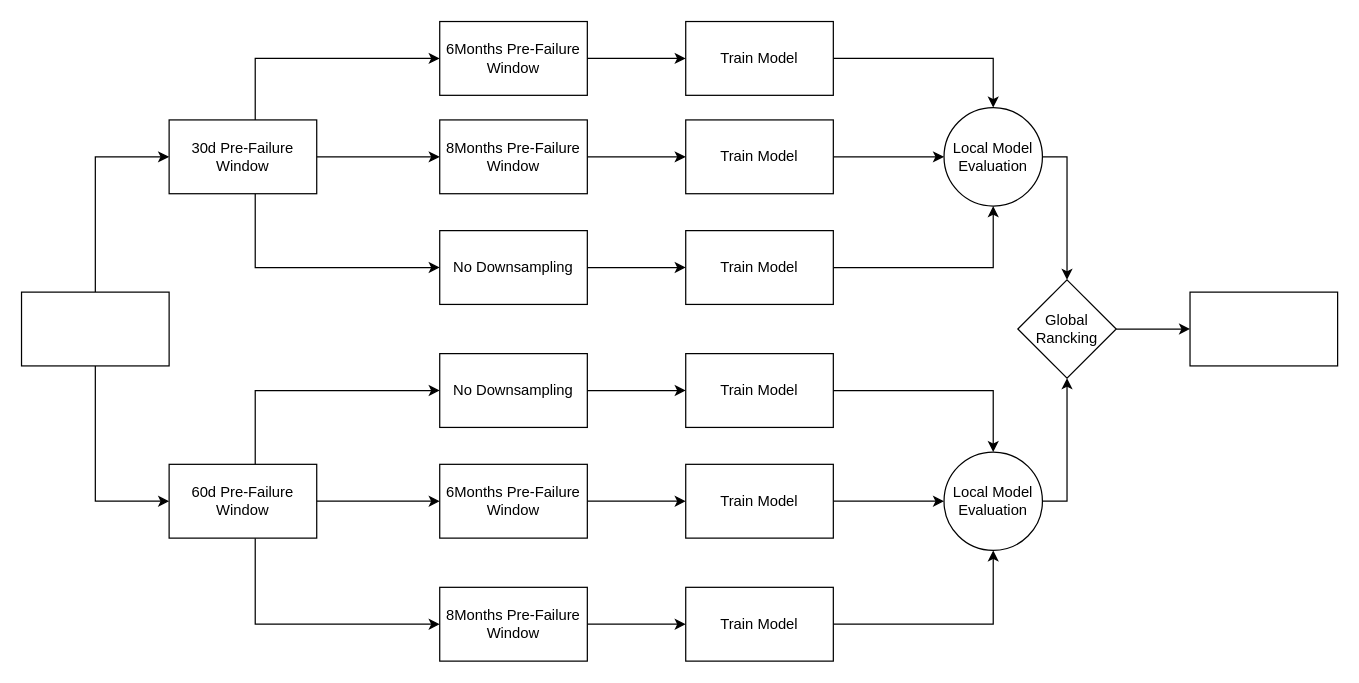
Some shapes in this 1359 by 683 pixel diagram are drawn without their labels. The shapes that lost their labels are listed below. From the top down, each one's box as (x1, y1, x2, y2) in pixels, then its label:
(20, 291, 169, 366): Raw Labeled SCADA data
(1189, 291, 1338, 366): Result
